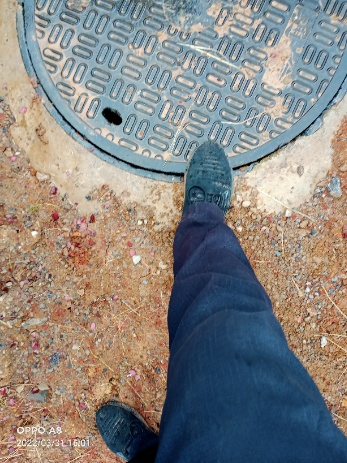good: (17, 1, 347, 182)
